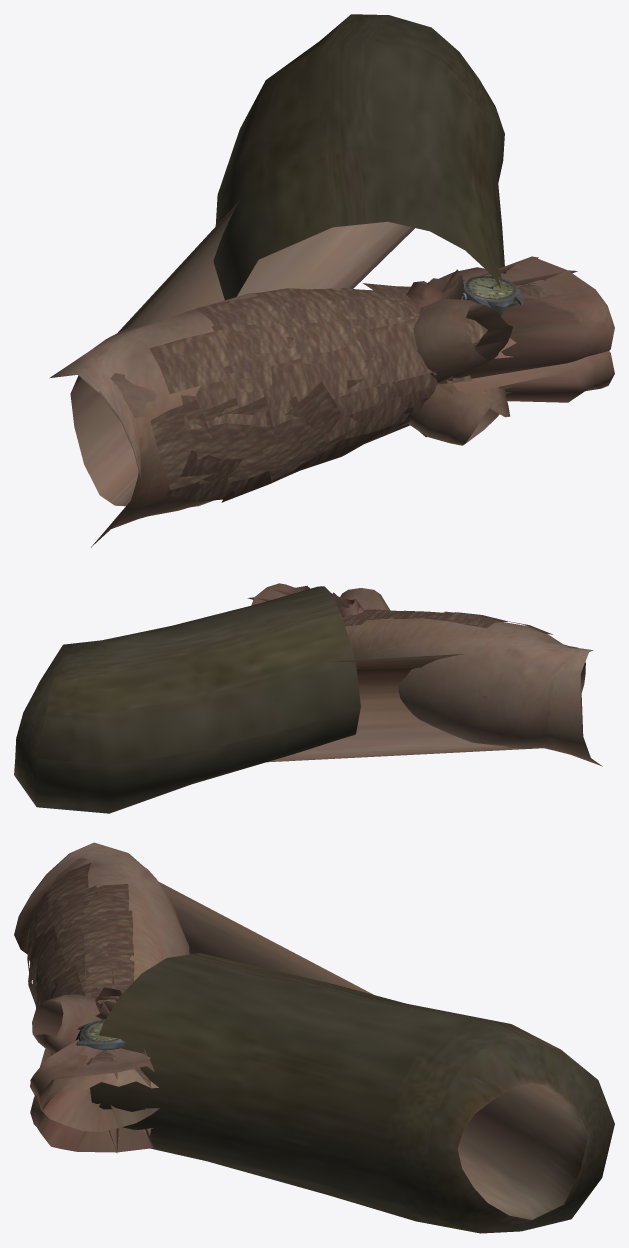
File: viewmodel_hands_british_bare.glb
3 renders of one model, top to bottom at view 1: azimuth 30°, elevation 25°; view 2: azimuth 150°, elevation 25°; view 3: azimuth 270°, elevation 25°, orthographic. The views are drawn at different scales.
Bounding box in the file's own units: 15.7 × 5.37 × 14.58.
2 materials, 2 textured.
